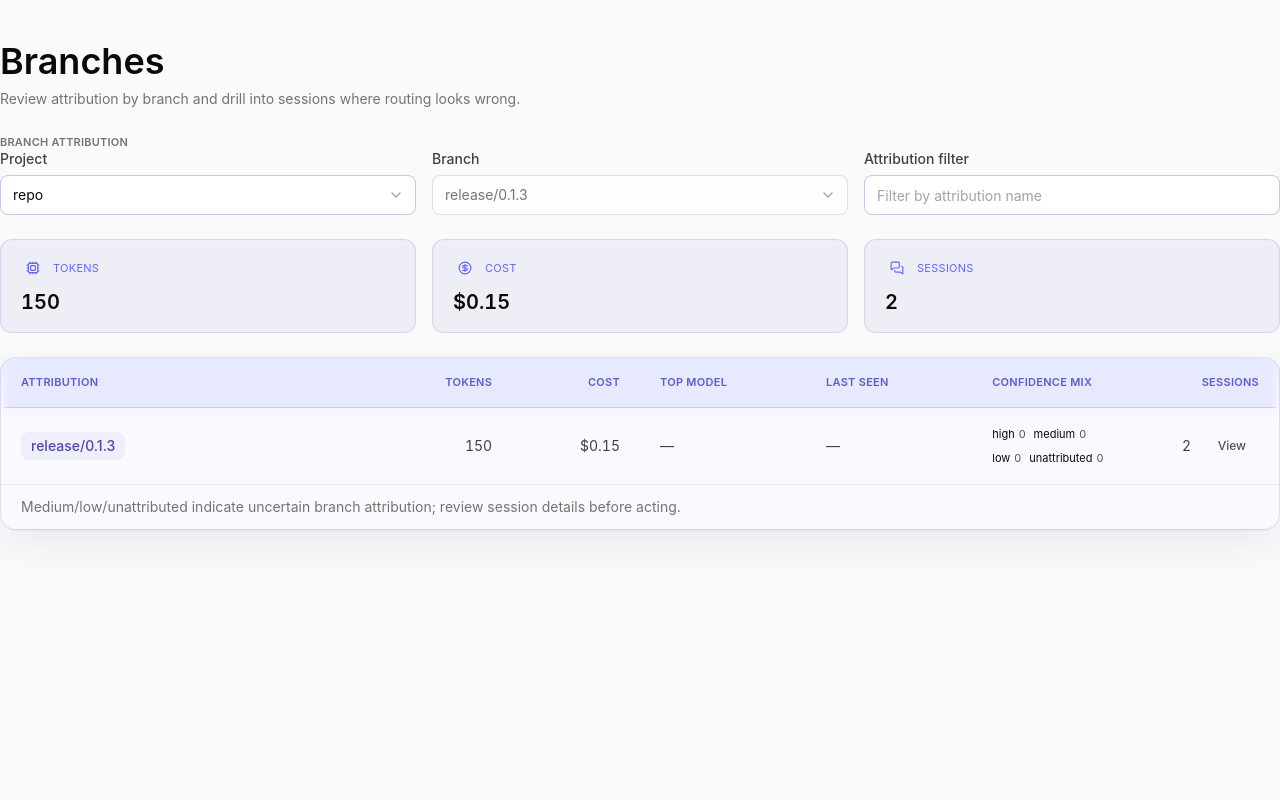
Test: BranchesPage › shows branch session groups while keeping raw sessions visible
Click the button with aria-label "view sessions".
click(1232, 446)  # box [1205,430,1259,462]
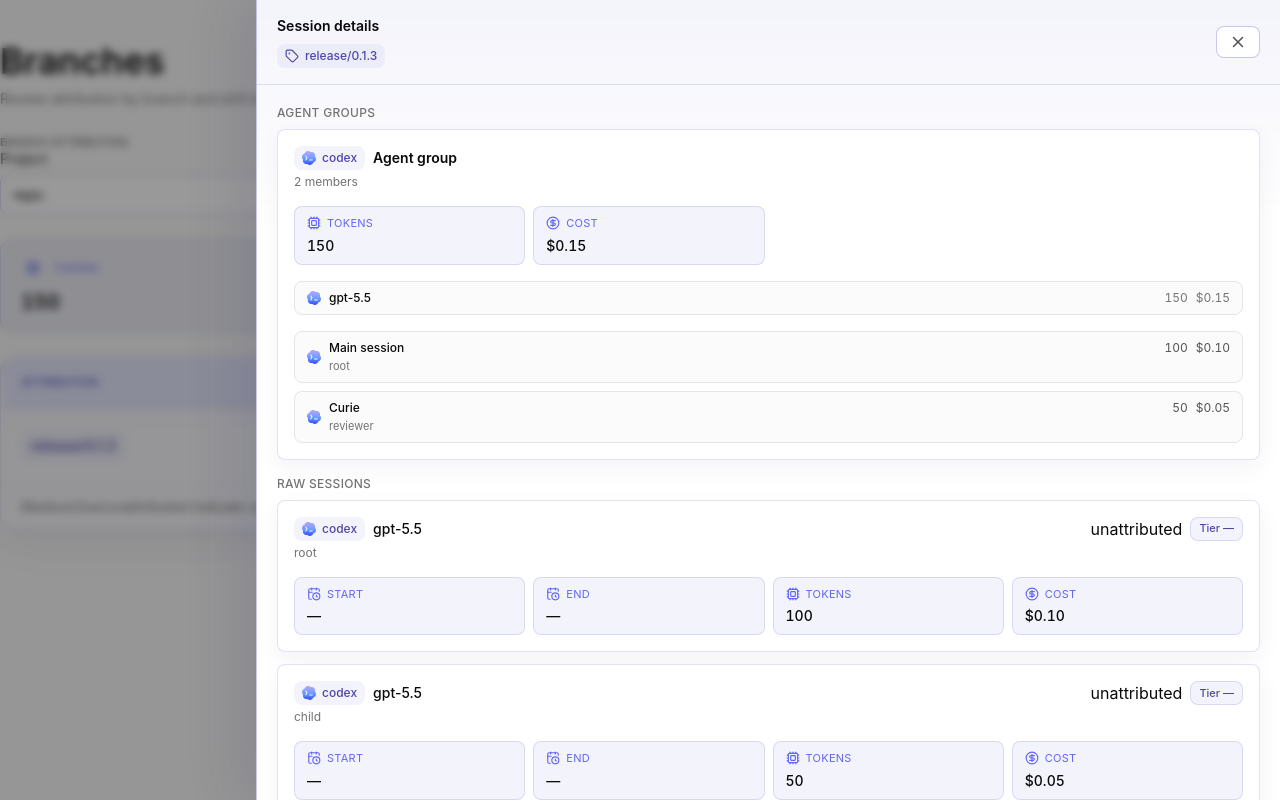
expect the heading "Agent group" is shown: met, box [373,148,457,168]
expect the text "2 members" is shown: met, box [294,174,358,189]
expect the text "Curie" is shown: met, box [329,400,360,414]
